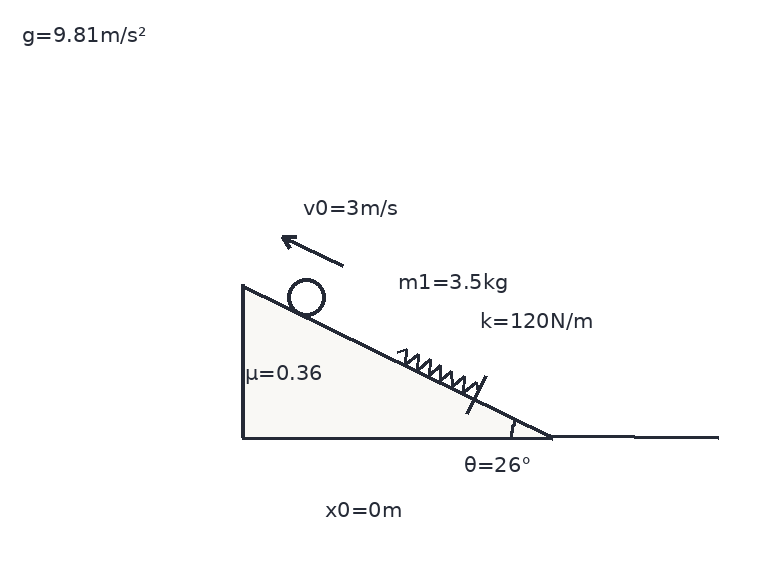ball: (285, 276, 327, 318)
ramp: (240, 284, 553, 439)
spring: (395, 347, 480, 394)
